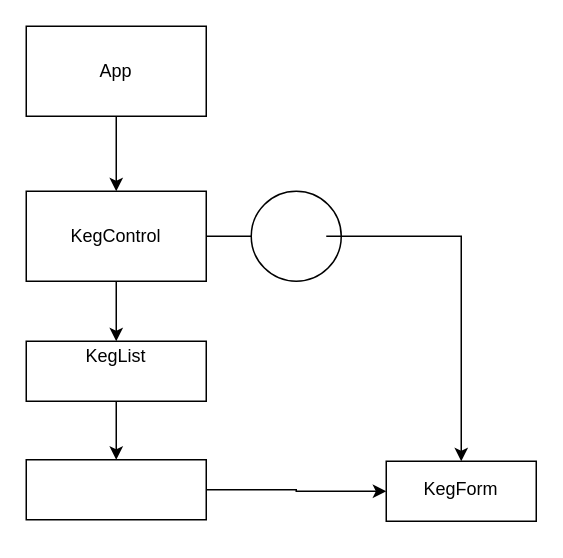
This 563x558 diagram has some shape labels left out. Each missing label, with the box of its shape:
AddKeg: (250, 190, 341, 281)
KegDetail: (25, 458, 206, 520)
